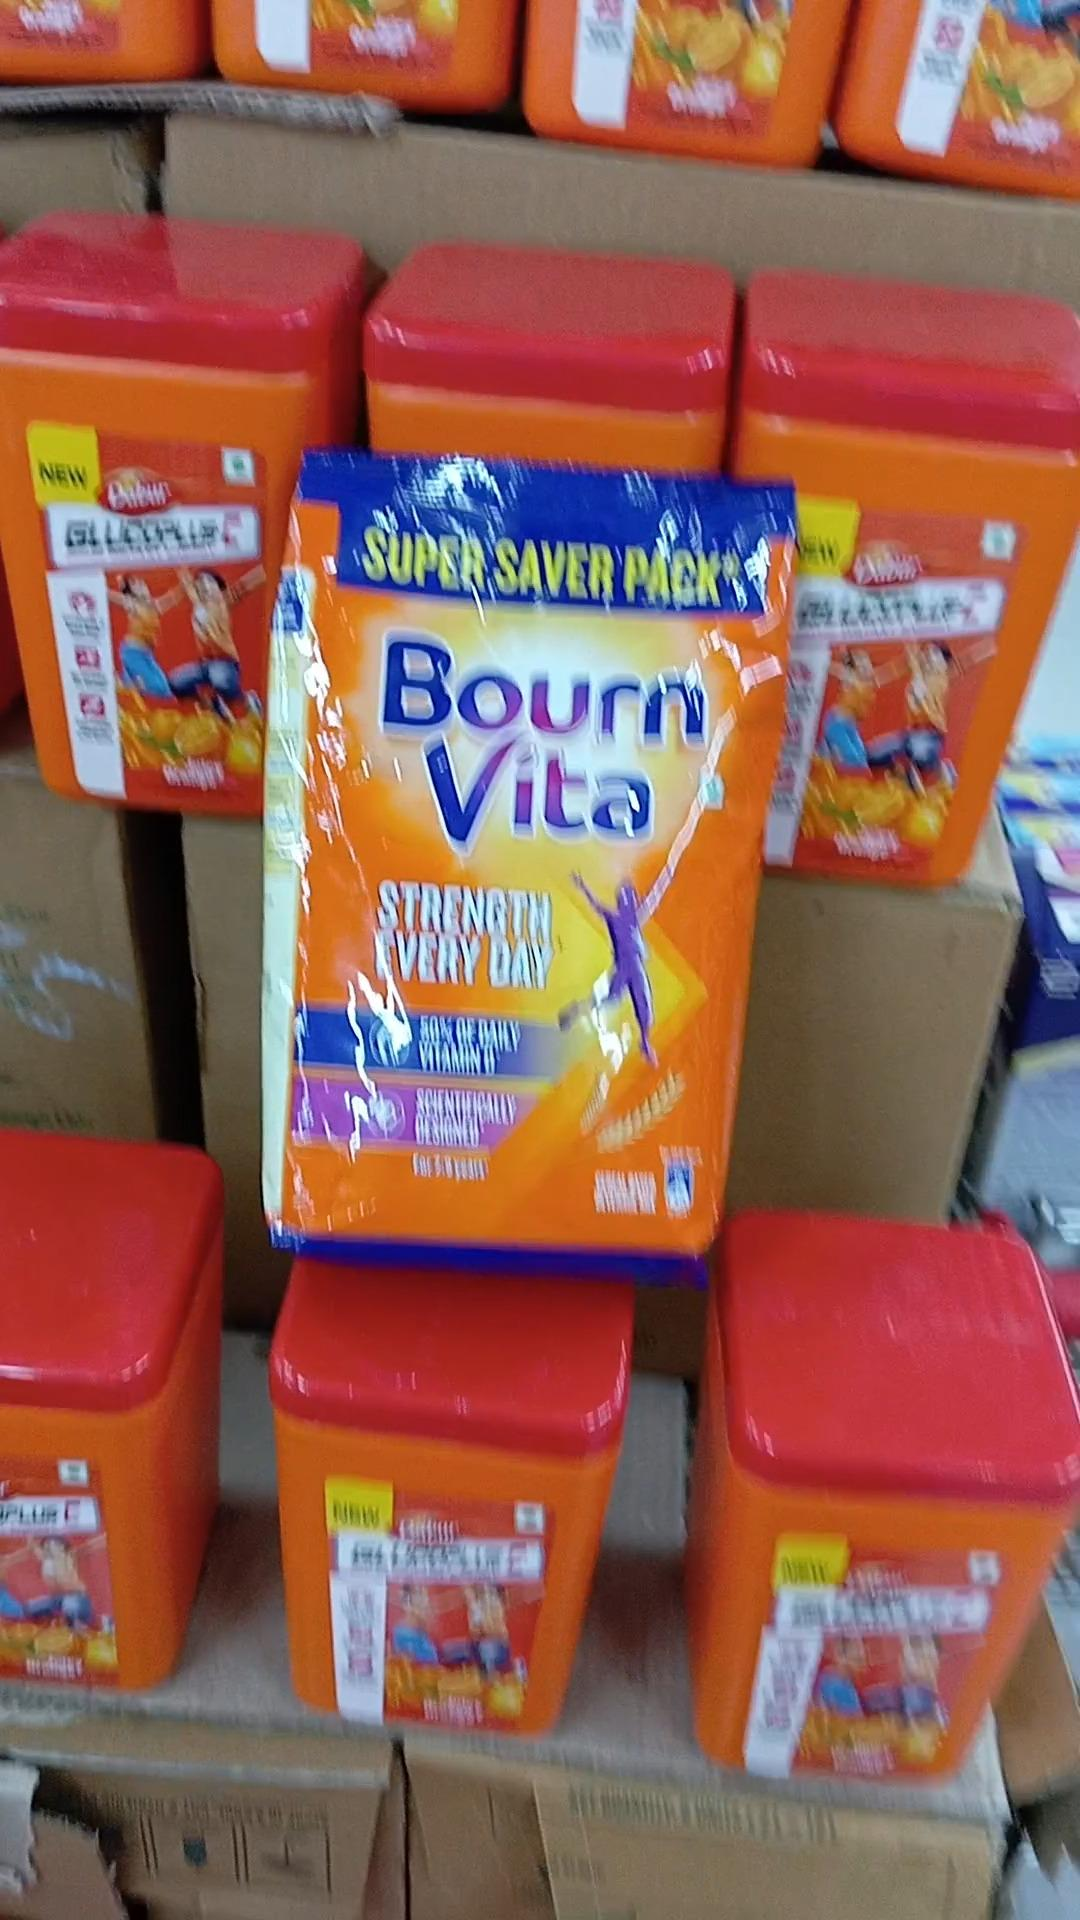BOURN_VITA_1_KG_POUCH: (258, 418, 740, 1273)
